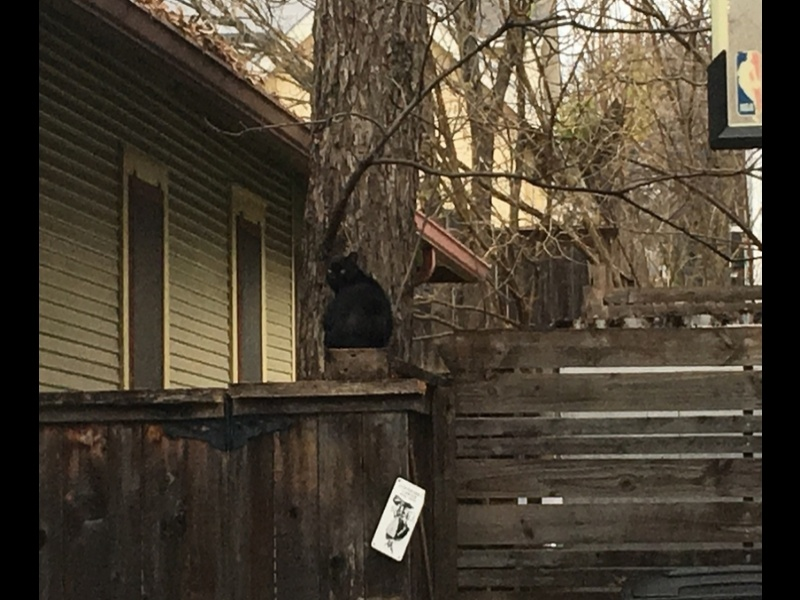cat: (314, 251, 396, 348)
